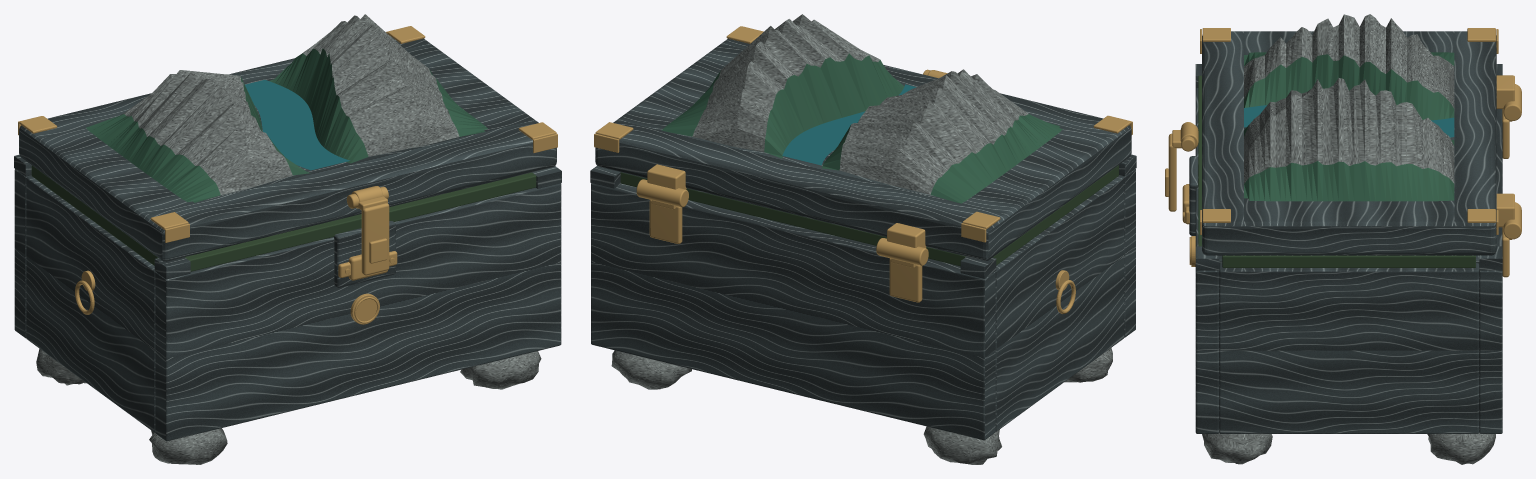
The model's file is new-zealand.glb.
3 views of the same model, side by side, from view 1: azimuth 30°, elevation 25°; view 2: azimuth 150°, elevation 25°; view 3: azimuth 270°, elevation 25° (orthographic).
Parts seen in each view (by area): view 1: Gneiss / front rear, Lid / polished slab, Gneiss / side, Ridge / east, Ridge / west, Mineral seam / long, Fiord / continuous water, Gneiss / front rear.001, Granite foot, Granite foot.002, Latch / lifting hasp, Gneiss / clasp seat (+4 smaller); view 2: Gneiss / front rear.001, Lid / polished slab, Gneiss / side, Ridge / west, Ridge / east, Mineral seam / long.001, Fiord / continuous water, Granite foot.001, Gneiss / front rear, Granite foot.003, Mineral seam / side, Hinge / fixed mount (+7 smaller); view 3: Gneiss / side.001, Lid / polished slab, Ridge / east, Ridge / west, Gneiss / front rear.001, Gneiss / front rear, Mineral seam / side.001, Granite foot.002, Granite foot.003, Latch / lifting hasp, Gneiss / clasp seat, Mineral seam / long (+11 smaller).
Part boxes in pixels (box(x1,y1,x2,y2)): Gneiss / front rear: box(155, 183, 561, 441); Lid / polished slab: box(19, 35, 556, 261); Gneiss / side: box(26, 176, 155, 432); Ridge / east: box(269, 14, 487, 163); Ridge / west: box(86, 70, 310, 202); Mineral seam / long: box(185, 172, 536, 271); Fiord / continuous water: box(245, 80, 349, 170); Gneiss / front rear.001: box(14, 169, 31, 338); Granite foot: box(149, 428, 227, 464); Granite foot.002: box(460, 351, 541, 389); Latch / lifting hasp: box(361, 203, 389, 275); Gneiss / clasp seat: box(334, 221, 395, 287); Gneiss / front rear.001: box(591, 183, 995, 440); Lid / polished slab: box(595, 38, 1131, 260); Gneiss / side: box(995, 176, 1124, 431); Ridge / west: box(822, 69, 1062, 203); Ridge / east: box(661, 14, 904, 158); Mineral seam / long.001: box(620, 172, 965, 266); Fiord / continuous water: box(782, 84, 916, 165); Granite foot.001: box(923, 426, 1001, 464); Gneiss / front rear: box(1119, 169, 1135, 337); Granite foot.003: box(611, 350, 691, 389); Mineral seam / side: box(993, 165, 1118, 265); Hinge / fixed mount: box(889, 258, 922, 302); Gneiss / side.001: box(1219, 263, 1479, 433); Lid / polished slab: box(1202, 31, 1496, 255); Ridge / east: box(1244, 78, 1454, 201); Ridge / west: box(1244, 14, 1454, 120); Gneiss / front rear.001: box(1479, 109, 1502, 433); Gneiss / front rear: box(1195, 88, 1219, 433); Mineral seam / side.001: box(1222, 255, 1475, 267); Granite foot.002: box(1202, 432, 1272, 464); Granite foot.003: box(1427, 432, 1495, 464); Latch / lifting hasp: box(1168, 133, 1176, 211); Gneiss / clasp seat: box(1189, 156, 1198, 235); Mineral seam / long: box(1198, 75, 1201, 246).
Size of the model in its own units: 3.79 by 3.08 by 2.88.
Materials: 6 (2 with a texture image).
